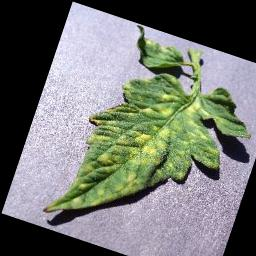Leaf_Mold: (42, 45, 256, 256)
